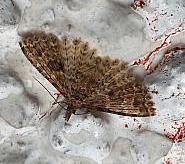Alucitidae: (13, 28, 157, 124)
moth: (15, 30, 159, 126)
